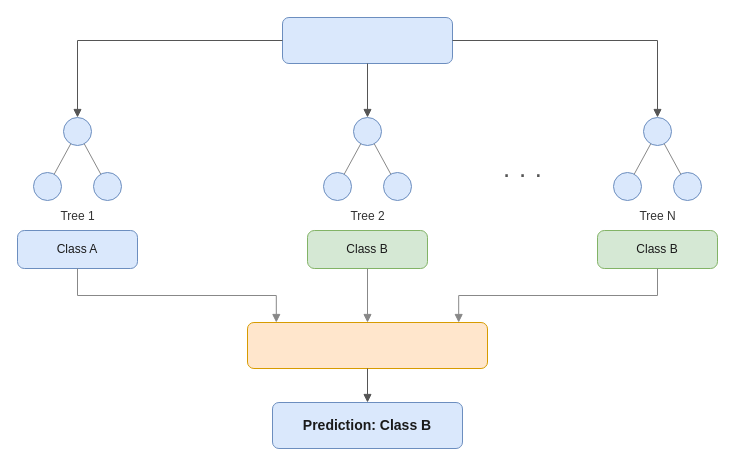
Some shapes in this 735 by 466 pixel diagram are drawn without their labels. Here are the shapes that lost their labels. From the top down, the centre of each, then its label:
pixel 367 40: New sample features to classify
pixel 367 345: Majority vote
